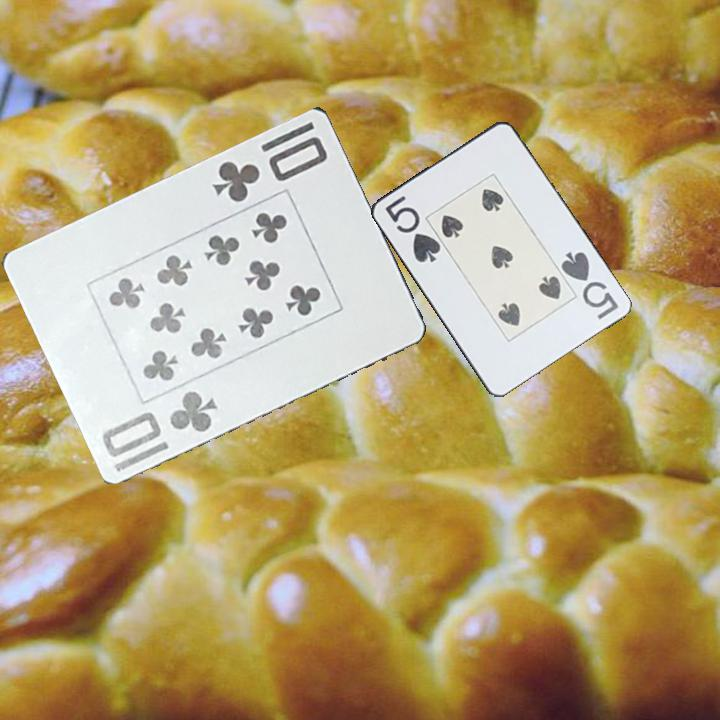5s: (557, 248, 621, 322), (381, 192, 443, 266)
Tc: (97, 386, 222, 474), (208, 132, 331, 207)
